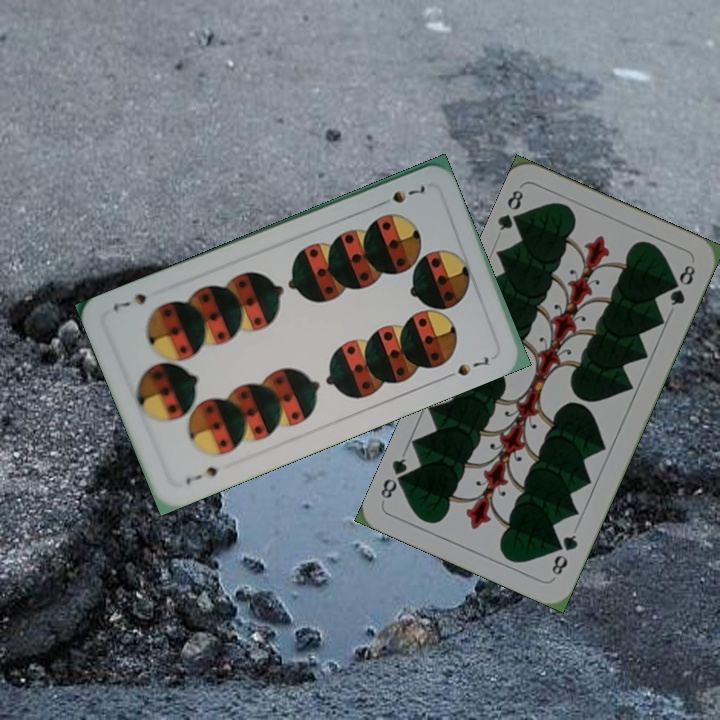G8: (493, 183, 528, 234), (547, 530, 581, 578)
S7: (373, 181, 428, 209), (181, 462, 220, 488)
